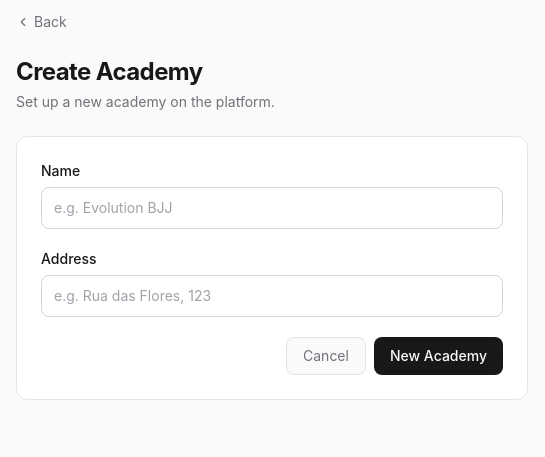
Test: AcademyCreatePage › shows an error message when creation fails
Type "Evolution" into the field with placeholder "e.g. Evolution BJJ" at (272, 208), box [41,187,503,229]
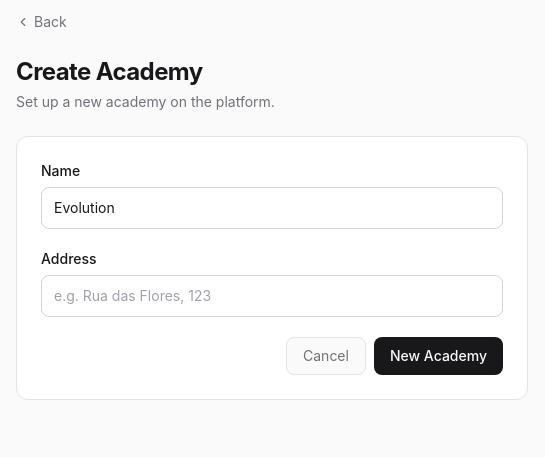
Type "Rua X" into the field with placeholder "e.g. Rua das Flores, 123" at (272, 296), box [41,275,503,317]
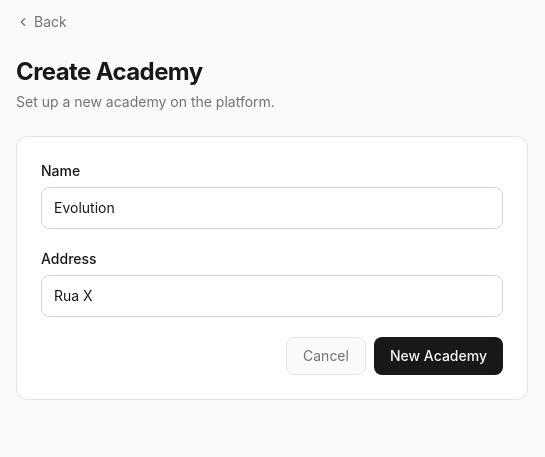
Click the button "New Academy" at (438, 356), box [374,337,503,375]
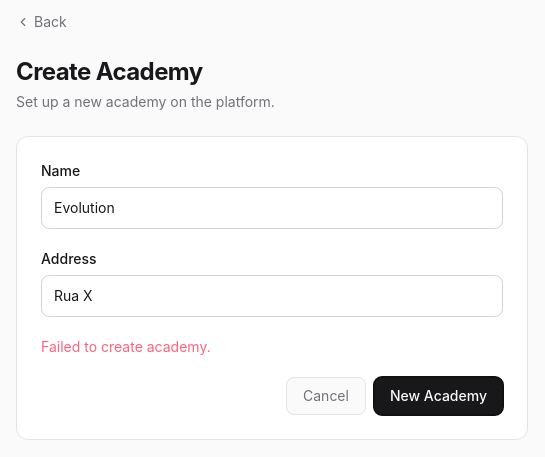
Check: the text "Failed to create academy." is shown, box [41,338,211,355]
